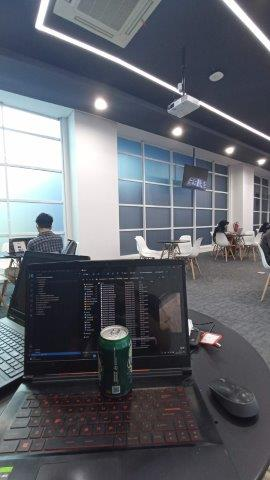kaleng: (98, 325, 133, 397)
